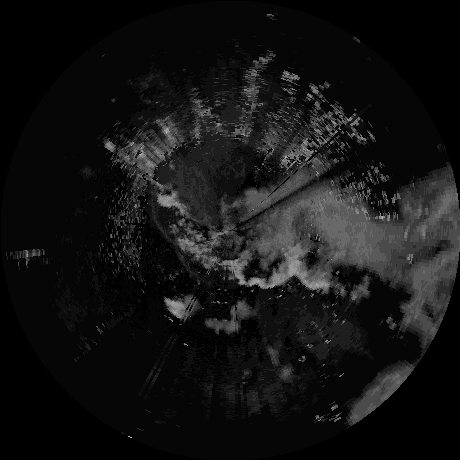frontgust: (149, 201, 176, 243), (173, 248, 201, 279)
